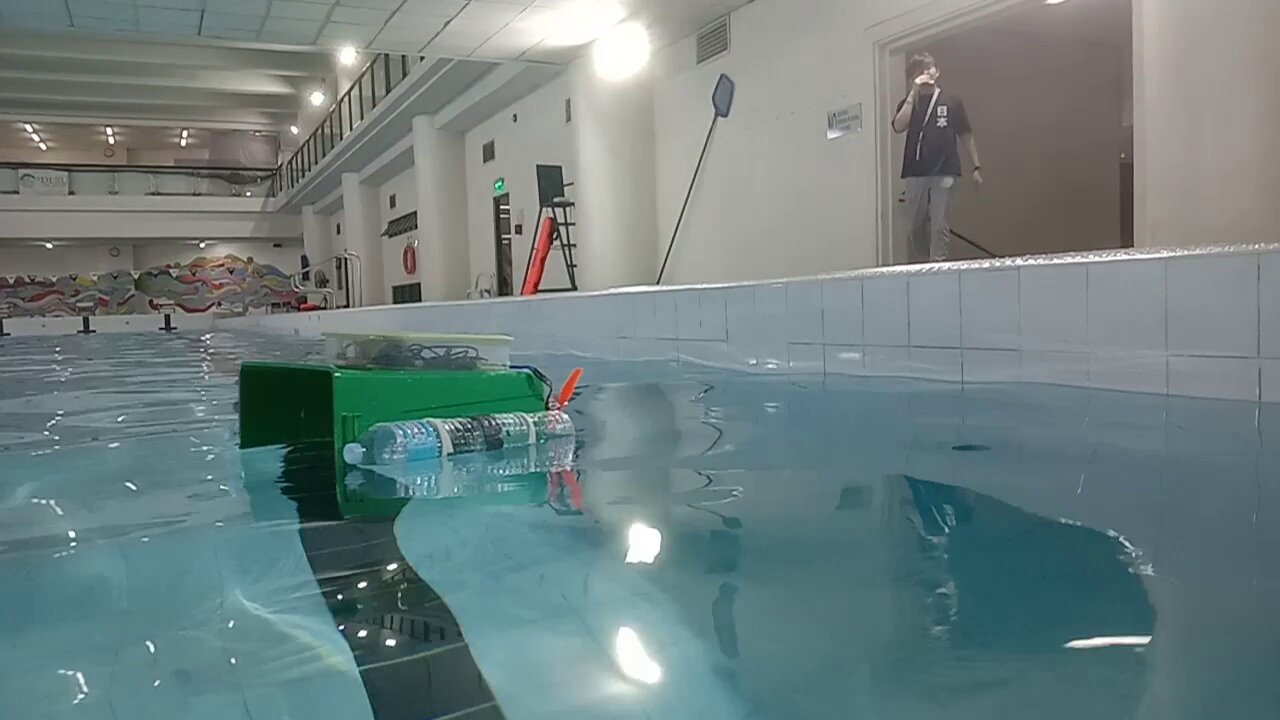drone: (239, 336, 583, 463)
